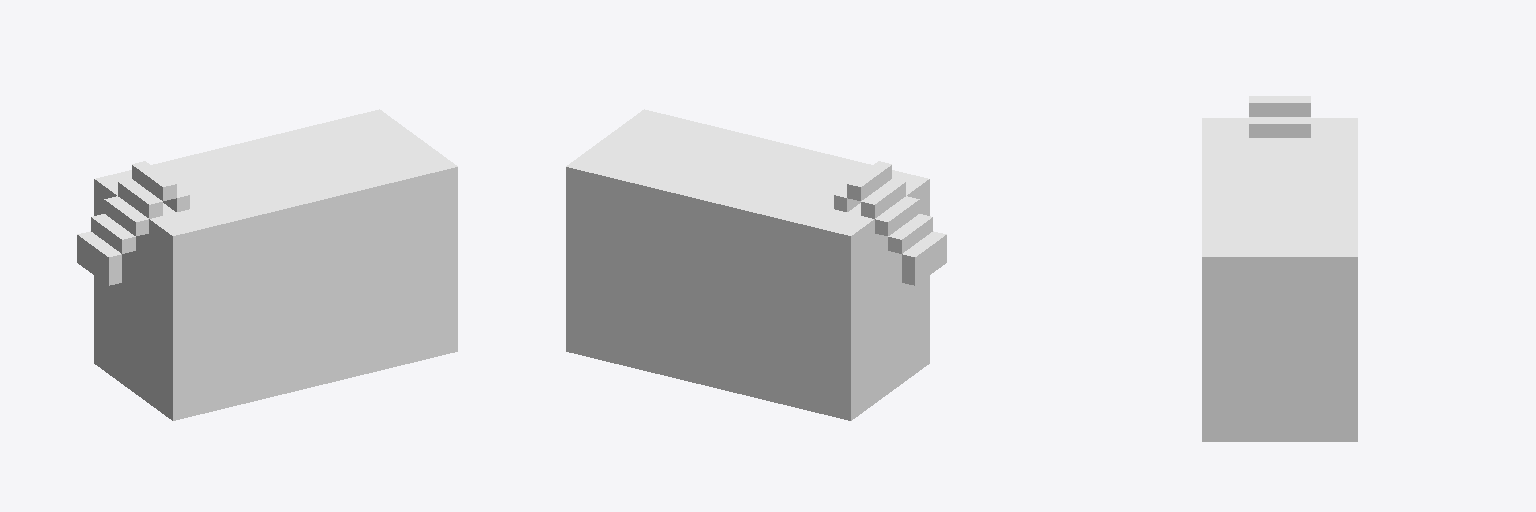
The model's file is maxammo.obj.
3 renders of one model, left to right at view 1: azimuth 30°, elevation 25°; view 2: azimuth 150°, elevation 25°; view 3: azimuth 270°, elevation 25°, orthographic.
Visible parts, largest first — view 1: object 1; view 2: object 1; view 3: object 1.
Boxes of the visible parts, x1=… form: object 1: x1=77, y1=109, x2=457, y2=420; object 1: x1=566, y1=109, x2=946, y2=420; object 1: x1=1202, y1=96, x2=1357, y2=441.
Size of the model in its own units: 2.4 by 1.5 by 1.